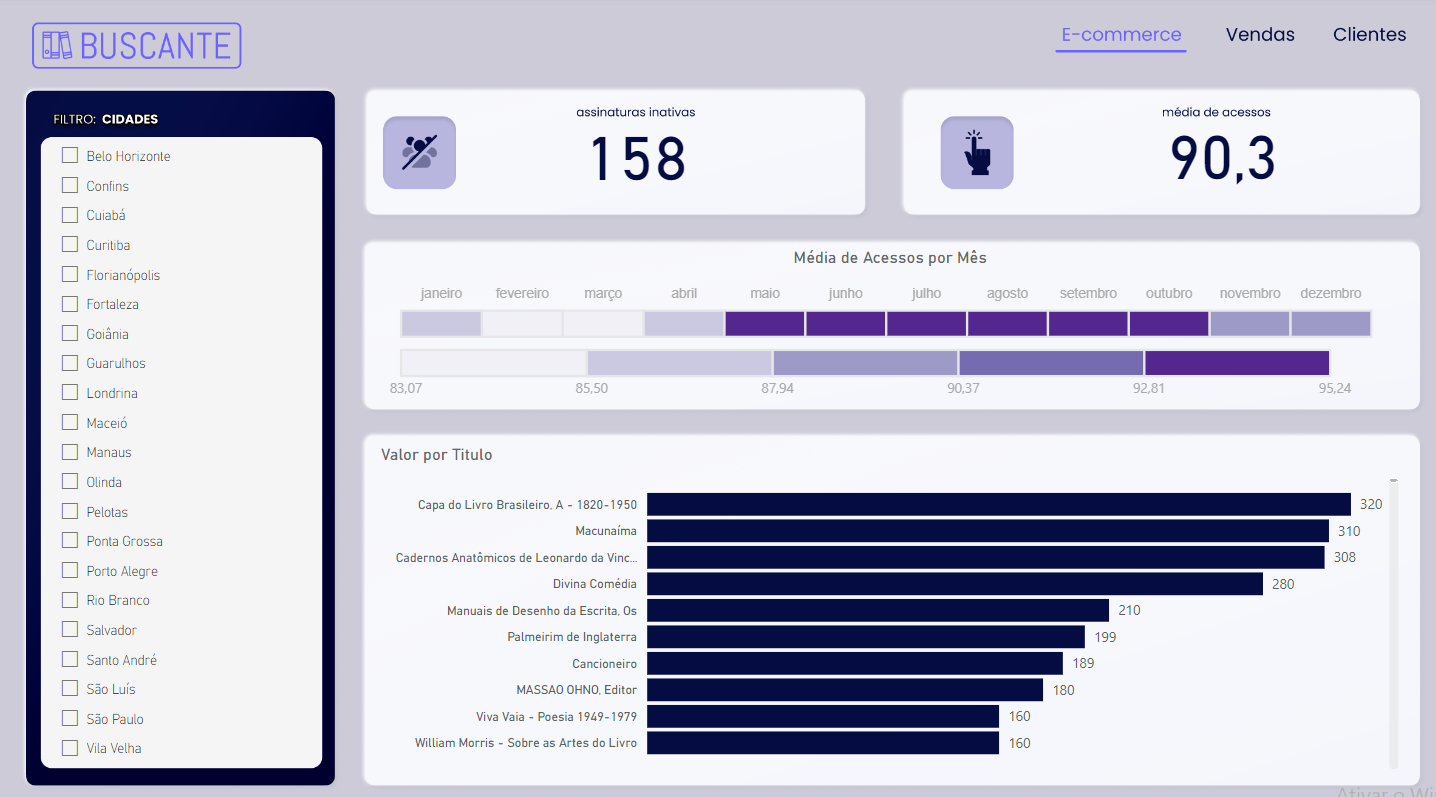

This screenshot's page, from the dashboard's own definition file:
{"tool":"powerbi","page":{"name":"E-commerce","canvas":[1280,720],"ordinal":0},"visuals":[{"type":"slicer","fields":{"Values":["Clientes.Cidade"]},"box":[37.9,121.6,247.1,555.4],"z":0},{"type":"card","fields":{"Values":["CountNonNull(Clientes.Assinatura ativa)"]},"box":[462,113.8,208.1,70],"z":1000},{"type":"card","fields":{"Values":["Avg(Acessos na página.Acessos)"]},"box":[961.9,113.8,201.3,71],"z":2000},{"type":"TableHeatMap1443716069308","title":"Média de Acessos","fields":{"Category":["Acessos na página.Data.Variation.Hierarquia de datas.Mês"],"Y":["Avg(Acessos na página.Acessos)"]},"box":[319,214,929.8,152.7],"z":3000},{"type":"clusteredBarChart","fields":{"Category":["Catálogo livros.Autor"],"Y":["Sum(Catálogo livros.Valor)"]},"box":[319,382.2,929.8,313.2],"z":4000},{"type":"actionButton","box":[1062.2,16,99.9,40],"z":4001},{"type":"actionButton","box":[1163.1,16,85.9,40],"z":4003}]}

Visuals, with their boxes in screenshot pixels (x1, y1, x2, y2), scaled from the page's 1280x720 canvas onto the 1436x797 screenshot:
slicer - Clientes.Cidade: {"x1": 43, "y1": 135, "x2": 320, "y2": 749}
card - CountNonNull(Clientes.Assinatura ativa): {"x1": 518, "y1": 126, "x2": 752, "y2": 203}
card - Avg(Acessos na página.Acessos): {"x1": 1079, "y1": 126, "x2": 1305, "y2": 205}
"Média de Acessos" TableHeatMap1443716069308: {"x1": 358, "y1": 237, "x2": 1401, "y2": 406}
clusteredBarChart - Catálogo livros.Autor x Sum(Catálogo livros.Valor): {"x1": 358, "y1": 423, "x2": 1401, "y2": 770}
actionButton: {"x1": 1192, "y1": 18, "x2": 1304, "y2": 62}
actionButton: {"x1": 1305, "y1": 18, "x2": 1401, "y2": 62}
